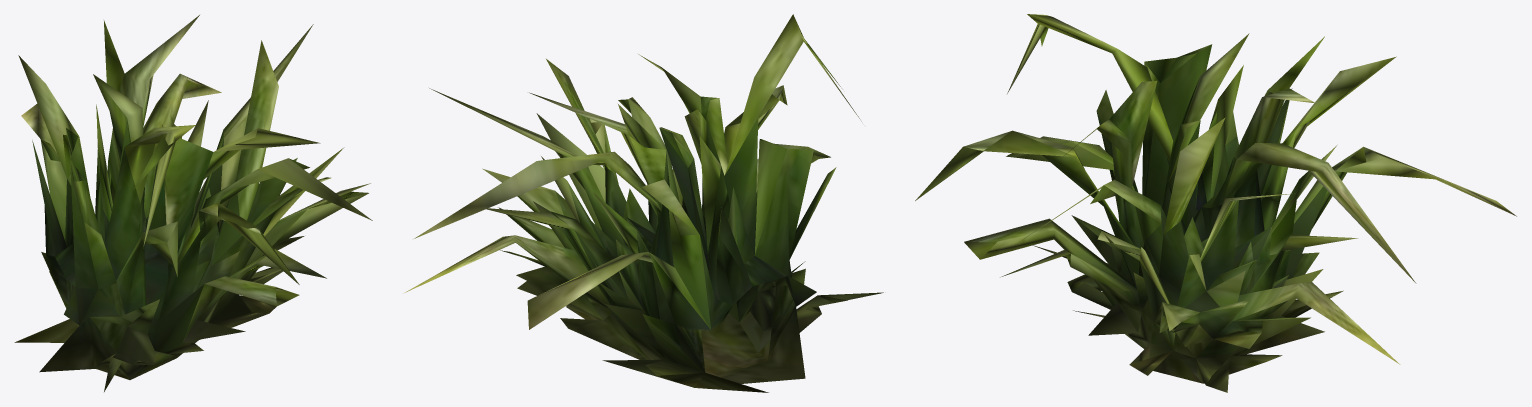
Rendered from grass_tuft_2.glb.
3 views of the same model, side by side, from view 1: azimuth 30°, elevation 25°; view 2: azimuth 150°, elevation 25°; view 3: azimuth 270°, elevation 25° (orthographic). The views are drawn at different scales.
Parts seen in each view (by area): view 1: tripo_node_7ac3d90a-8751-476c-9687-198a5a3f9aa1.003; view 2: tripo_node_7ac3d90a-8751-476c-9687-198a5a3f9aa1.003; view 3: tripo_node_7ac3d90a-8751-476c-9687-198a5a3f9aa1.003.
Boxes of the visible parts, left/top/right/bottom form: tripo_node_7ac3d90a-8751-476c-9687-198a5a3f9aa1.003: left=14, top=15, right=372, bottom=391; tripo_node_7ac3d90a-8751-476c-9687-198a5a3f9aa1.003: left=404, top=14, right=883, bottom=392; tripo_node_7ac3d90a-8751-476c-9687-198a5a3f9aa1.003: left=915, top=14, right=1516, bottom=392.
Bounding box in the file's own units: 0.3592 × 0.3053 × 0.4994.
1 material, 1 textured.
